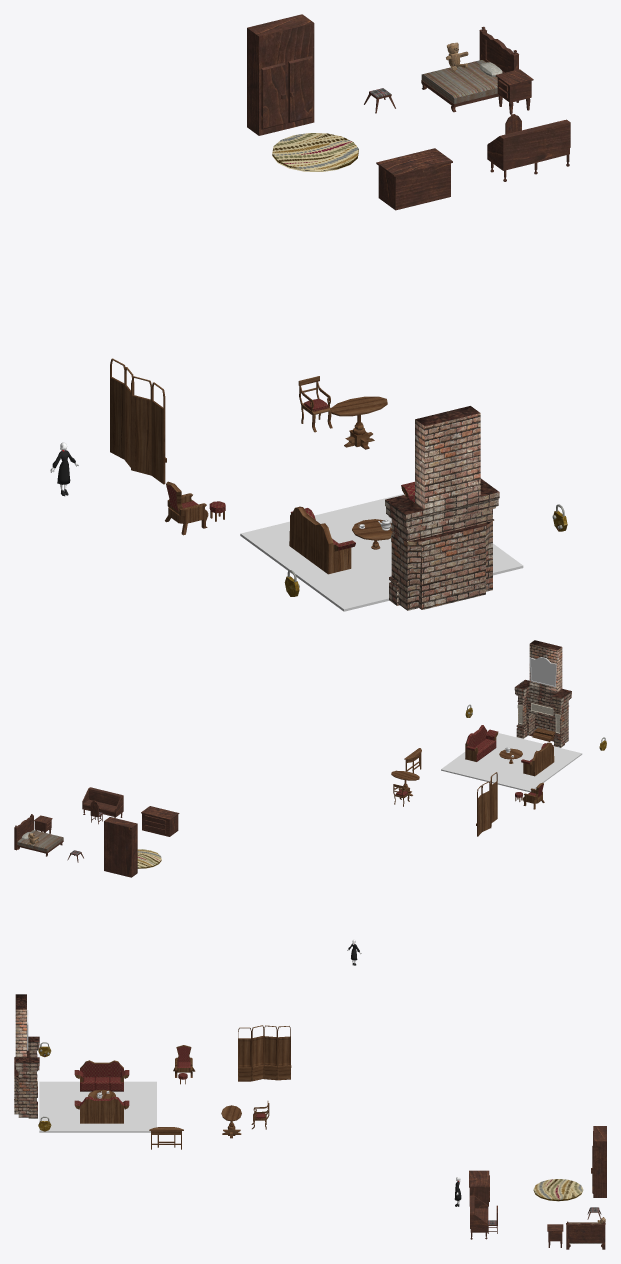
File: SalaEstar.fbx
3 renders of one model, top to bottom at view 1: azimuth 30°, elevation 25°; view 2: azimuth 150°, elevation 25°; view 3: azimuth 270°, elevation 25°, orthographic. The views are drawn at different scales.
Parts seen in each view (by area): view 1: Lareira, Tapete, GuardaRoupa, Divisor, Cama, Bife, EscrivaninhaQuarto, Tapete.001, Sofa.001, Mesa.001, Poltrona, CriadoMudo (+1 smaller); view 2: Lareira, Tapete, GuardaRoupa, Cama, Bife, Divisor, EscrivaninhaQuarto, Sofa, Sofa.001, EspelhoVidro; view 3: Tapete, Lareira, Divisor, Sofa.001, Sofa, GuardaRoupa, Cama, Tapete.001, EscrivaninhaQuarto, Bife, Poltrona, Mesa.001 (+1 smaller).
Boxes of the visible parts, x1=… form: Lareira: x1=385, y1=406, x2=499, y2=610; Tapete: x1=240, y1=494, x2=523, y2=611; GuardaRoupa: x1=247, y1=14, x2=314, y2=135; Divisor: x1=110, y1=358, x2=166, y2=484; Cama: x1=421, y1=26, x2=518, y2=112; Bife: x1=376, y1=148, x2=452, y2=210; EscrivaninhaQuarto: x1=487, y1=119, x2=570, y2=181; Tapete.001: x1=272, y1=133, x2=358, y2=171; Sofa.001: x1=289, y1=506, x2=355, y2=574; Mesa.001: x1=330, y1=396, x2=387, y2=449; Poltrona: x1=165, y1=481, x2=208, y2=535; CriadoMudo: x1=495, y1=69, x2=533, y2=114; Lareira: x1=514, y1=640, x2=571, y2=747; Tapete: x1=441, y1=733, x2=582, y2=792; GuardaRoupa: x1=104, y1=817, x2=137, y2=877; Cama: x1=14, y1=814, x2=63, y2=856; Bife: x1=141, y1=806, x2=179, y2=836; Divisor: x1=476, y1=772, x2=497, y2=836; EscrivaninhaQuarto: x1=82, y1=787, x2=123, y2=818; Sofa: x1=465, y1=725, x2=498, y2=761; Sofa.001: x1=521, y1=742, x2=554, y2=776; EspelhoVidro: x1=531, y1=658, x2=555, y2=685; Tapete: x1=39, y1=1081, x2=156, y2=1132; Lareira: x1=14, y1=994, x2=39, y2=1118; Divisor: x1=238, y1=1025, x2=291, y2=1081; Sofa.001: x1=74, y1=1060, x2=129, y2=1091; Sofa: x1=74, y1=1096, x2=129, y2=1123; GuardaRoupa: x1=591, y1=1126, x2=606, y2=1197; Cama: x1=566, y1=1221, x2=605, y2=1249; Tapete.001: x1=533, y1=1179, x2=583, y2=1201; EscrivaninhaQuarto: x1=470, y1=1195, x2=488, y2=1239; Bife: x1=469, y1=1170, x2=489, y2=1206; Poltrona: x1=173, y1=1045, x2=195, y2=1077; Mesa.001: x1=221, y1=1105, x2=241, y2=1138.
Size of the model in its own units: 24.82 by 12.38 by 32.61.
